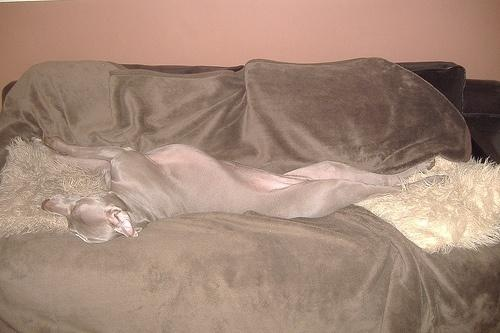dog: (40, 133, 450, 244)
sofa: (3, 57, 500, 333)
